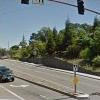Traffic light: (72, 0, 91, 21)
